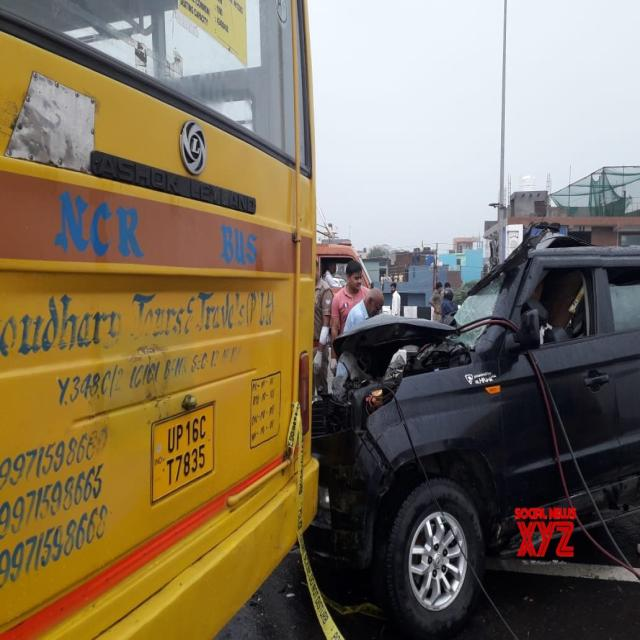accident: (308, 227, 640, 637)
bus: (0, 1, 316, 638)
